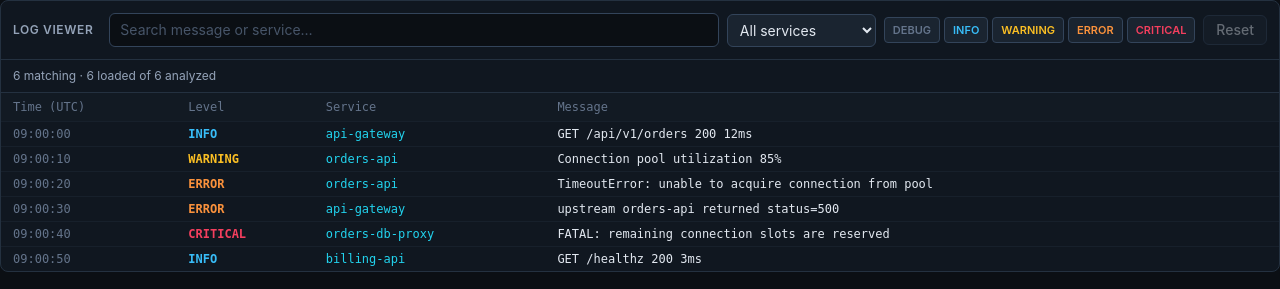
LogViewer › filters by search text
The image size is (1280, 289).
Type "pool" into the search field named "Search logs".
click(414, 30); type("pool")  # box [109,13,719,47]
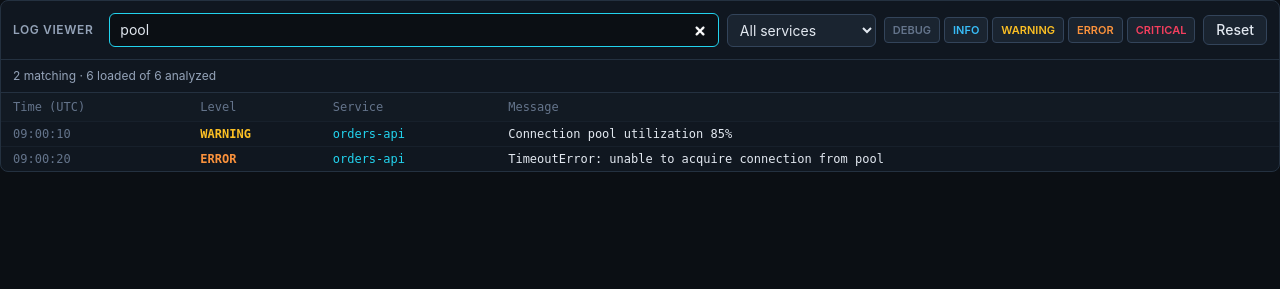
Check: the number of rows with test id "log-row" is 2, box [1,122,1279,146]; [1,146,1279,171]
Check: the message shows "2 matching", box [13,68,216,83]
